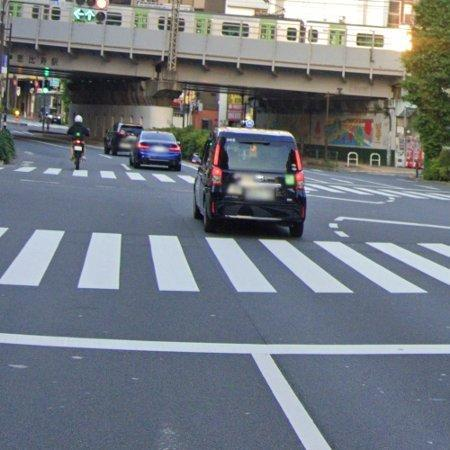crosswalks: (0, 225, 450, 296)
